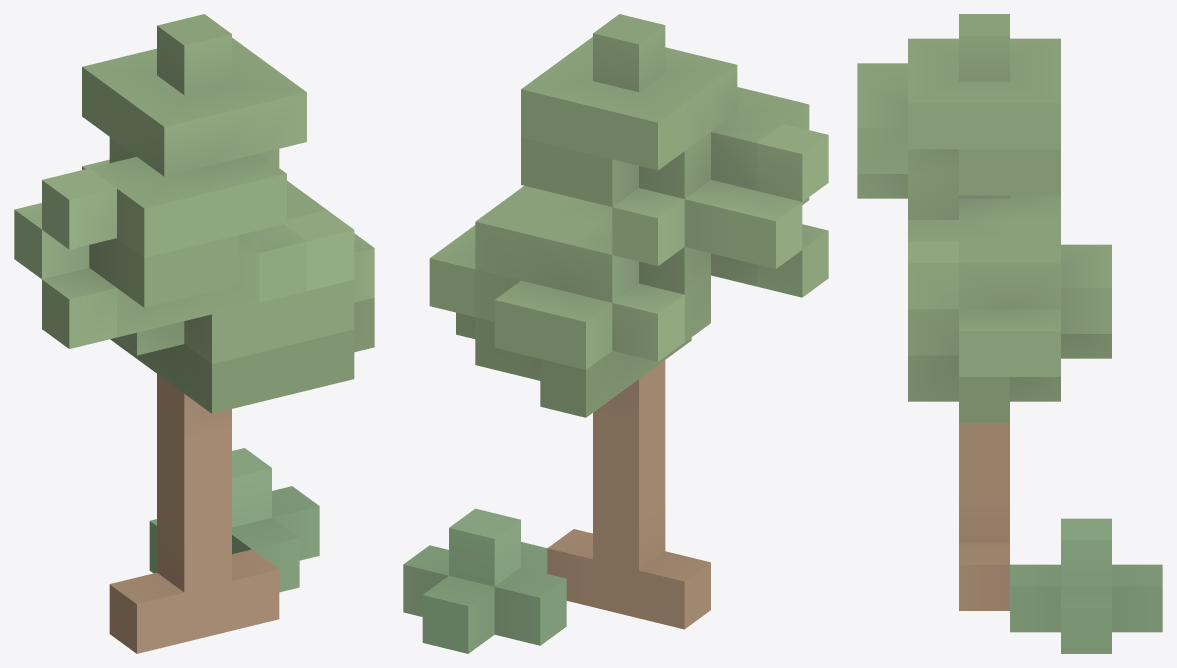
File: tree_plot.v4.glb
3 views of the same model, side by side, from view 1: azimuth 30°, elevation 25°; view 2: azimuth 150°, elevation 25°; view 3: azimuth 270°, elevation 25° (orthographic). The views are drawn at different scales.
Parts seen in each view (by area): view 1: tree_plot; view 2: tree_plot; view 3: tree_plot.
Part boxes in pixels (x1,y1,x2,y2): tree_plot: [14, 14, 374, 653]; tree_plot: [403, 14, 828, 653]; tree_plot: [857, 14, 1162, 653].
Size of the model in its own units: 0.875 by 1.5 by 0.75.
